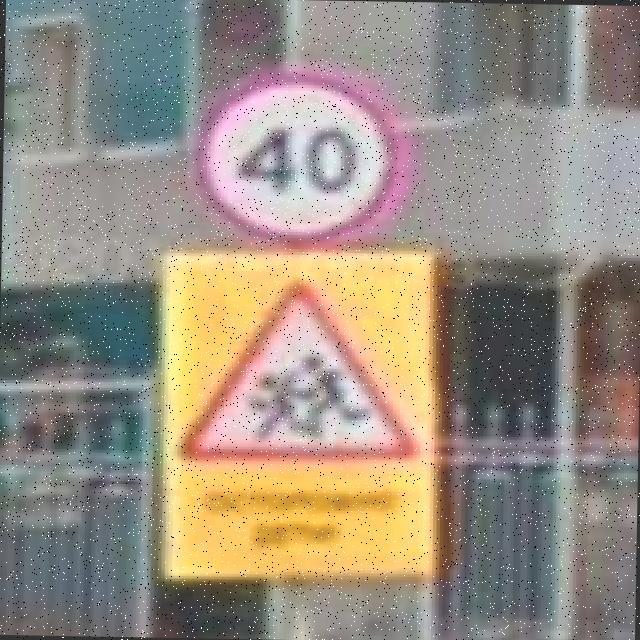Dzieci: (176, 278, 422, 466)
Ograniczenie predkosci do 40: (195, 68, 405, 245)
